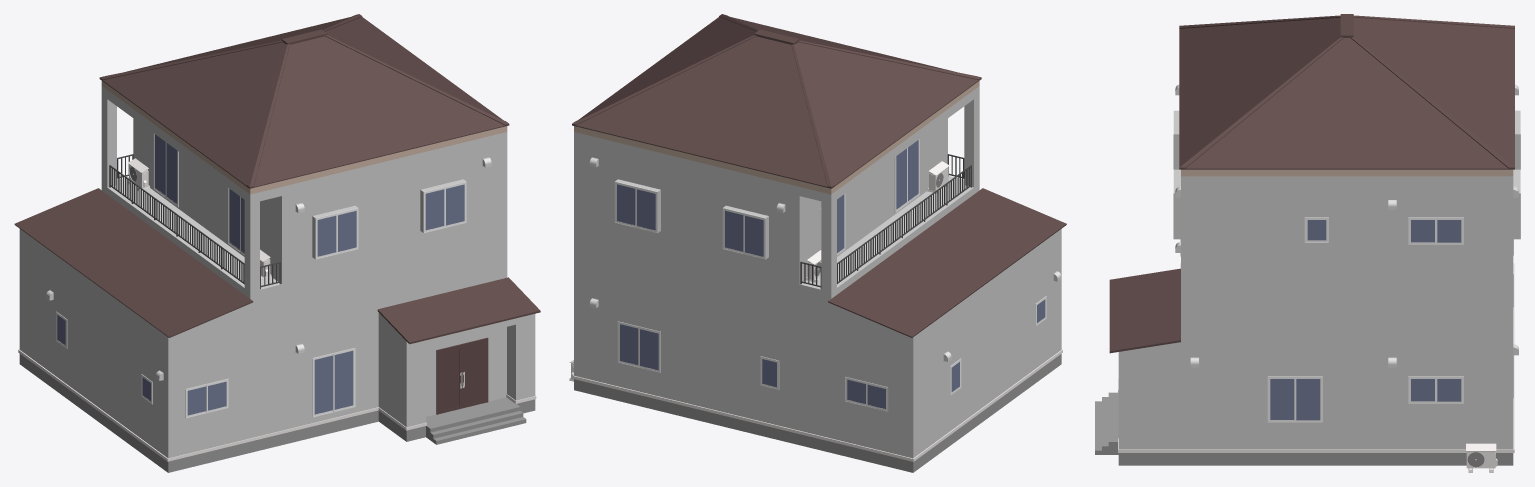
File: MobHouse14.fbx
The picture shows the model from 3 angles, left to right: view 1: azimuth 30°, elevation 25°; view 2: azimuth 150°, elevation 25°; view 3: azimuth 270°, elevation 25°; orthographic projection. The views are drawn at different scales.
Visible parts, largest first — view 1: Flat_half_house01.014; view 2: Flat_half_house01.014; view 3: Flat_half_house01.014.
Boxes of the visible parts, x1,y1,x2,y2 form: Flat_half_house01.014: [14, 14, 540, 472]; Flat_half_house01.014: [569, 14, 1066, 472]; Flat_half_house01.014: [1095, 14, 1520, 472].
Size of the model in its own units: 10.79 by 9.56 by 9.96.
